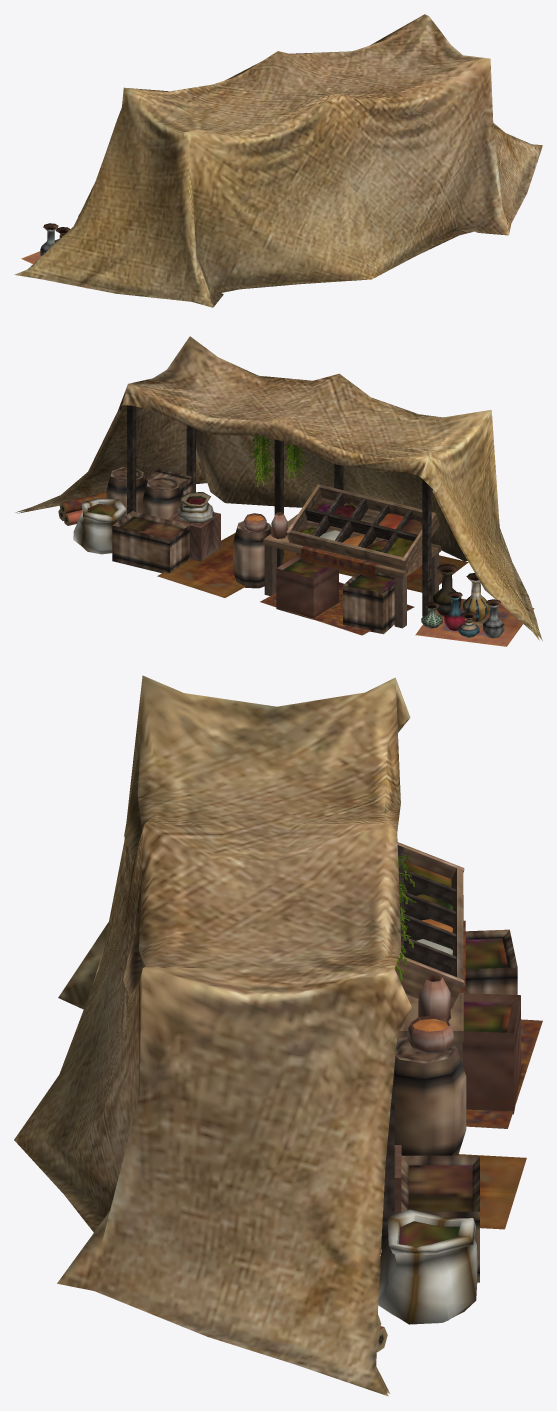
The model's file is s_ptolemies_stall_med.glb.
3 renders of one model, top to bottom at view 1: azimuth 30°, elevation 25°; view 2: azimuth 150°, elevation 25°; view 3: azimuth 270°, elevation 25°, orthographic. The views are drawn at different scales.
Parts seen in each view (by area): view 1: s_ptolemies_stall_med_part2, s_ptolemies_stall_med_part0; view 2: s_ptolemies_stall_med_part2, s_ptolemies_stall_med_part0, s_ptolemies_stall_med_part1; view 3: s_ptolemies_stall_med_part2, s_ptolemies_stall_med_part0.
Boxes of the visible parts, bbox=[...] form: s_ptolemies_stall_med_part2: bbox=[14, 14, 542, 307]; s_ptolemies_stall_med_part0: bbox=[21, 214, 88, 288]; s_ptolemies_stall_med_part2: bbox=[15, 336, 542, 640]; s_ptolemies_stall_med_part0: bbox=[58, 405, 534, 646]; s_ptolemies_stall_med_part1: bbox=[248, 435, 306, 486]; s_ptolemies_stall_med_part2: bbox=[14, 675, 411, 1396]; s_ptolemies_stall_med_part0: bbox=[376, 842, 542, 1352].
Size of the model in its own units: 4.17 by 1.22 by 1.82.
3 materials, 3 textured.
